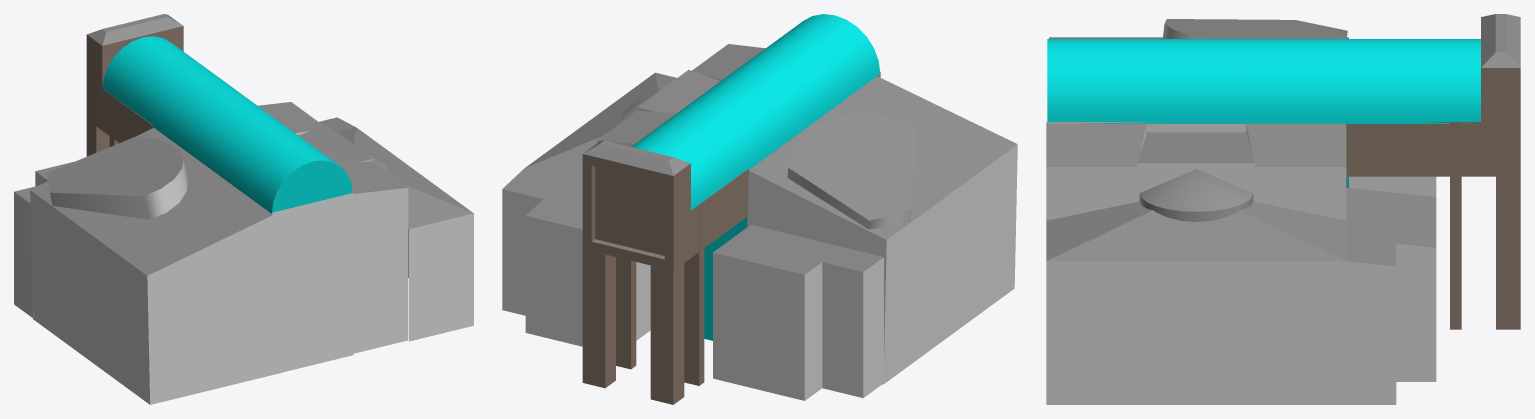
File: KKM.fbx
The picture shows the model from 3 angles, left to right: view 1: azimuth 30°, elevation 25°; view 2: azimuth 150°, elevation 25°; view 3: azimuth 270°, elevation 25°; orthographic projection. The views are drawn at different scales.
Parts seen in each view (by area): view 1: KKM; view 2: KKM; view 3: KKM.
Boxes of the visible parts, bbox=[...] form: KKM: bbox=[14, 14, 473, 404]; KKM: bbox=[502, 14, 1017, 404]; KKM: bbox=[1046, 14, 1520, 404].
Bounding box in the file's own units: 301 × 188 × 296.
